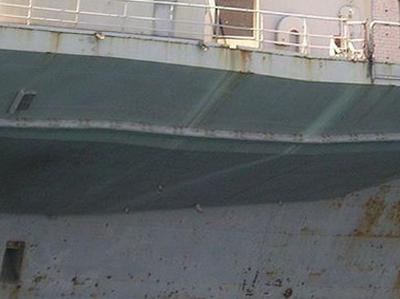rust: (337, 187, 400, 278), (223, 45, 252, 89)
